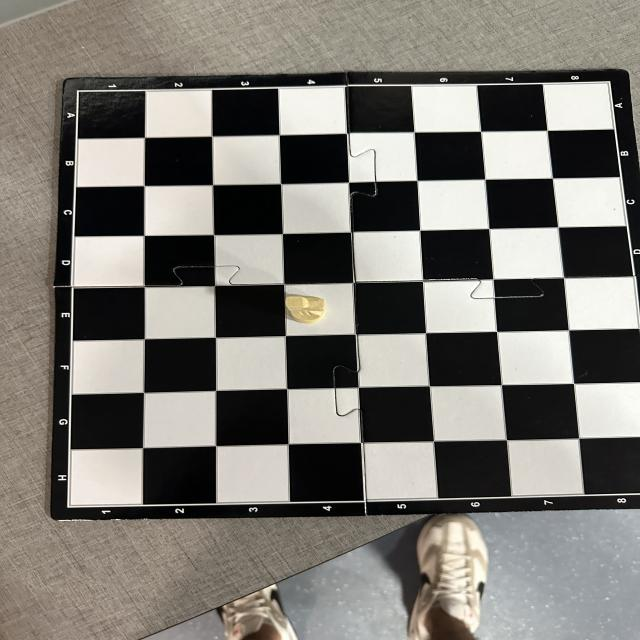White-Knight: (285, 294, 327, 324)
